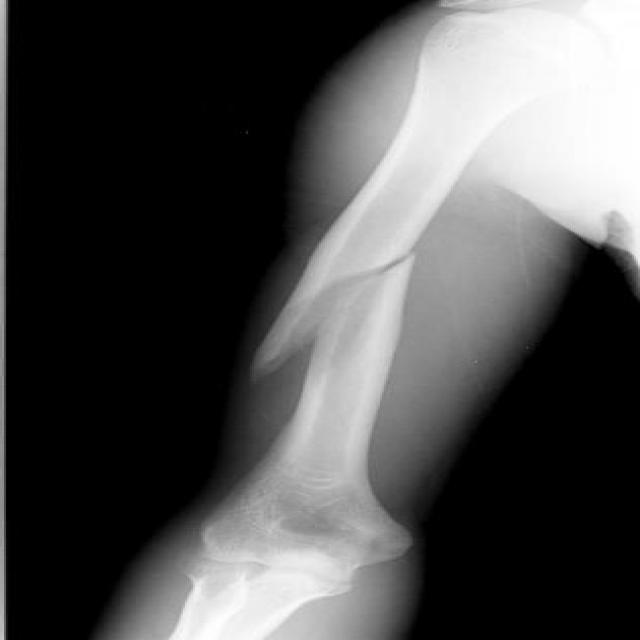Broken: (243, 27, 534, 387), (246, 283, 428, 494)
